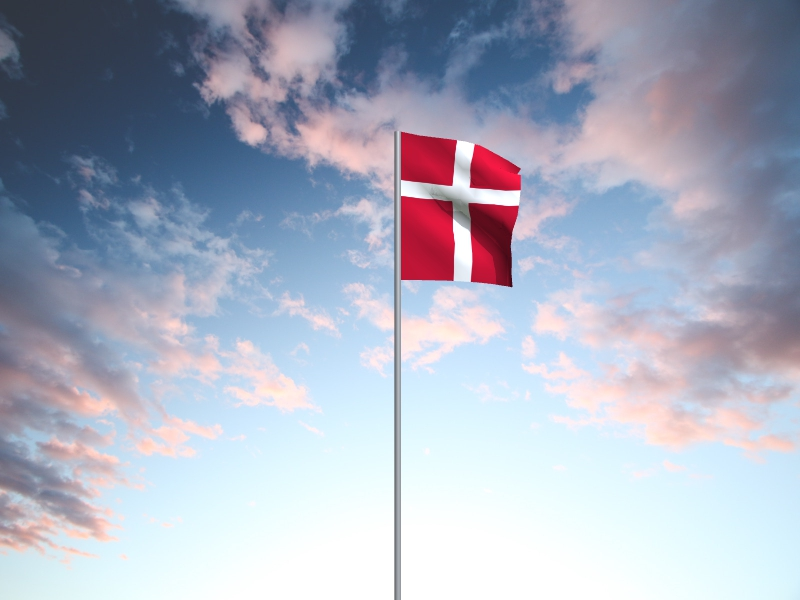dk: (402, 132, 523, 290)
